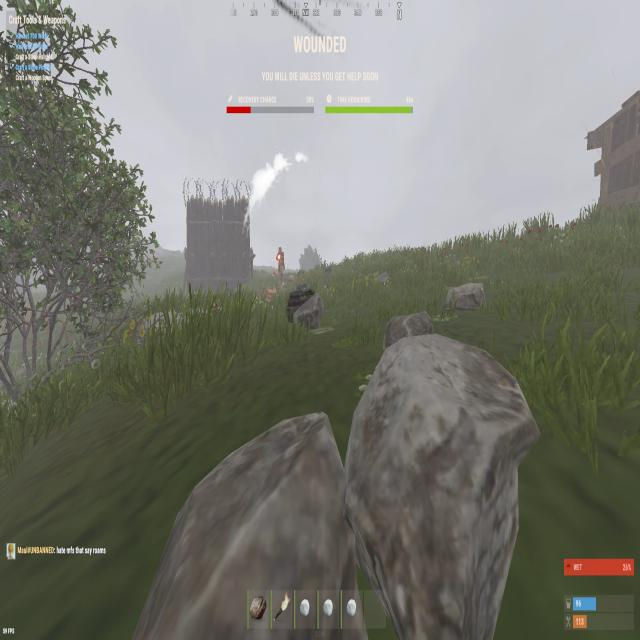Player: (276, 245, 286, 291)
